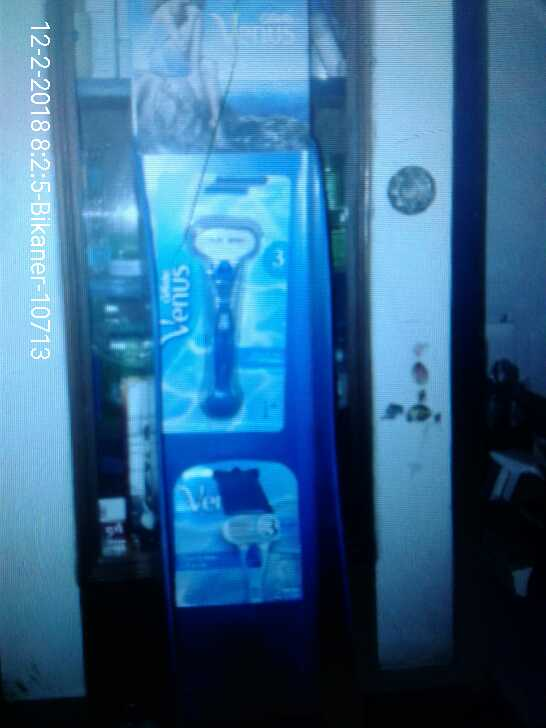venus: (156, 168, 290, 435), (156, 455, 311, 607)
